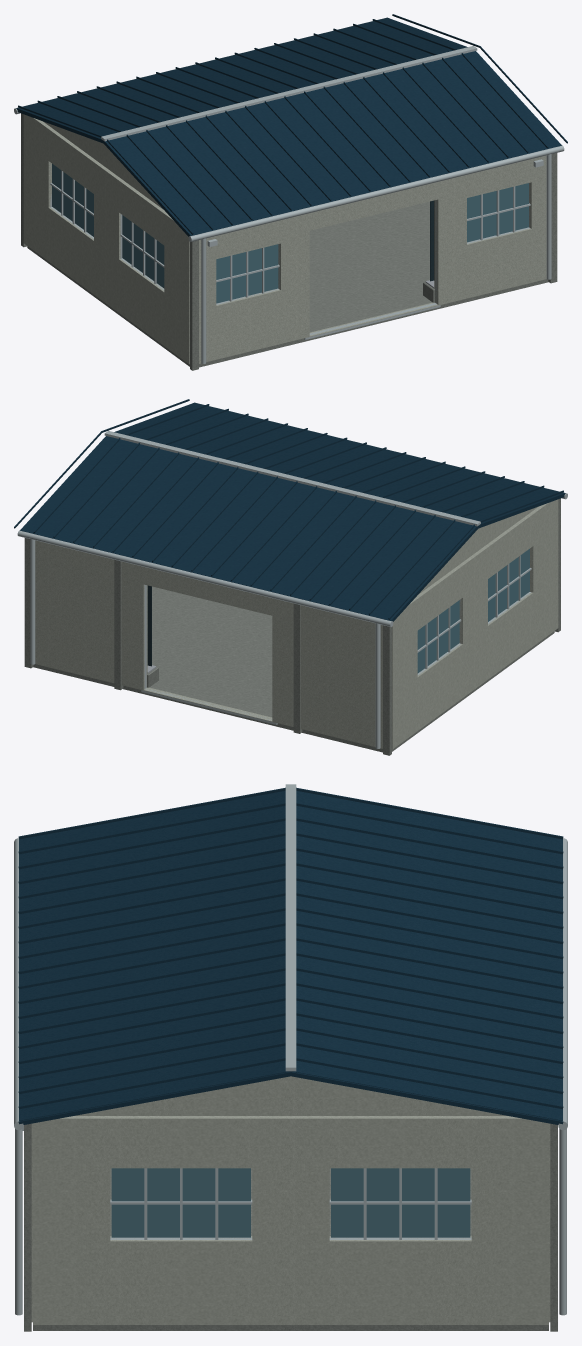
The model's file is mine-shaft-house.glb.
The picture shows the model from 3 angles, top to bottom: view 1: azimuth 30°, elevation 25°; view 2: azimuth 150°, elevation 25°; view 3: azimuth 270°, elevation 25°; orthographic projection. The views are drawn at different scales.
Parts seen in each view (by area): view 1: Core_roof, Core_wall, Core_concrete, Core_trim, Core_glass; view 2: Core_roof, Core_wall, Core_concrete, Core_trim, Core_glass; view 3: Core_roof, Core_wall, Core_glass, Core_trim, Core_concrete.
Part boxes in pixels (left/top/right/bottom): Core_roof: left=16, top=14, right=567, bottom=236; Core_wall: left=23, top=114, right=546, bottom=364; Core_concrete: left=21, top=113, right=557, bottom=370; Core_trim: left=14, top=17, right=564, bottom=363; Core_glass: left=52, top=163, right=528, bottom=303; Core_roof: left=14, top=399, right=565, bottom=621; Core_wall: left=35, top=499, right=558, bottom=749; Core_concrete: left=24, top=498, right=560, bottom=755; Core_trim: left=17, top=402, right=567, bottom=748; Core_glass: left=417, top=548, right=529, bottom=673; Core_roof: left=18, top=787, right=563, bottom=1124; Core_wall: left=31, top=1076, right=550, bottom=1324; Core_glass: left=111, top=1168, right=470, bottom=1237; Core_trim: left=14, top=784, right=567, bottom=1315; Core_concrete: left=24, top=1123, right=557, bottom=1331.
Size of the model in its own units: 10.54 by 4.59 by 8.59.
7 materials, 4 textured.
